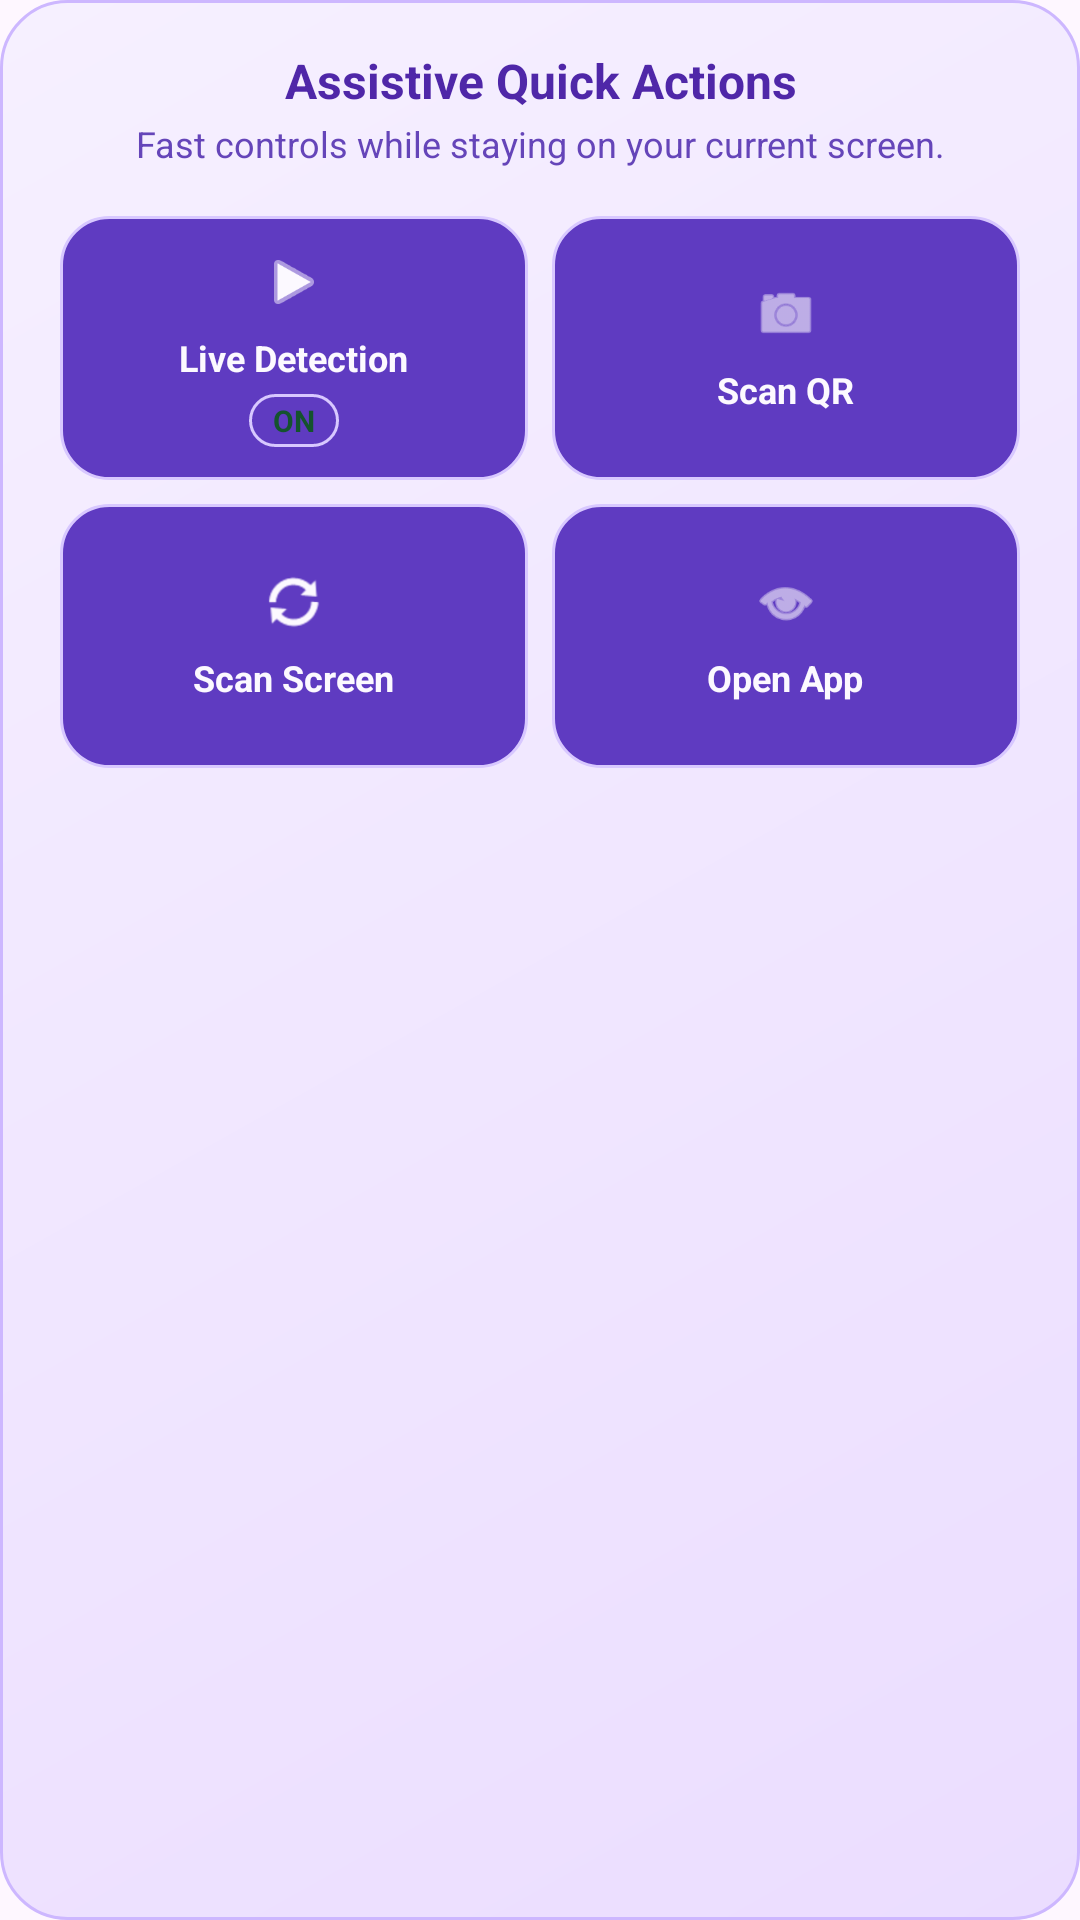

Screen size 1080w x 1920h. Icon name, then its box in pixels as detection(x1, y1, x2, y2):
camera: detection(761, 293, 811, 333)
play: detection(274, 260, 314, 304)
popup sync: detection(269, 577, 319, 627)
view: detection(759, 587, 813, 621)
